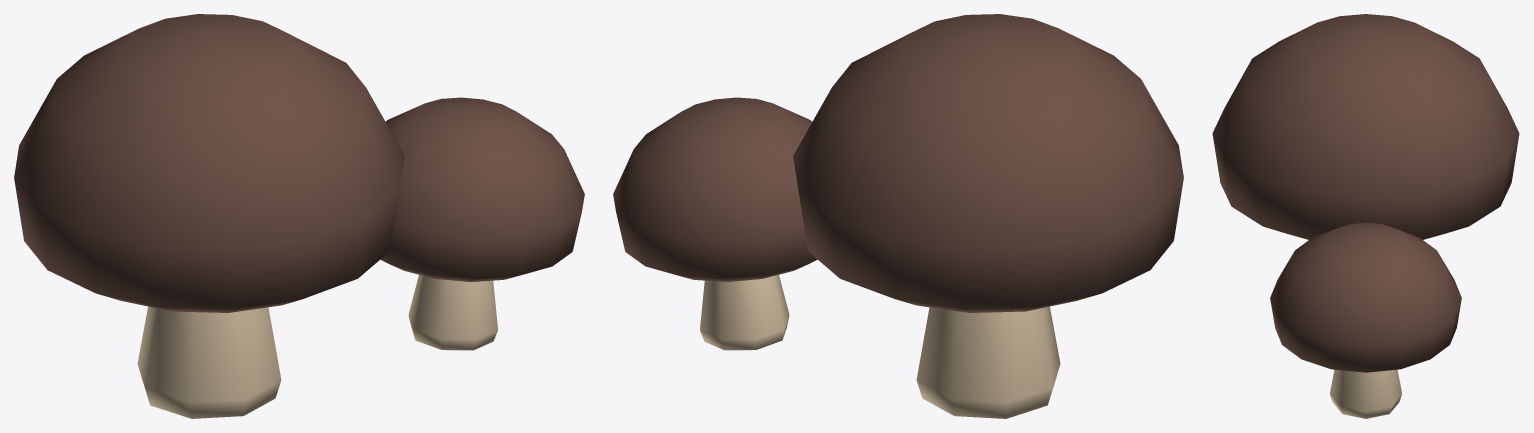
Rendered from Mushroom_01.1.fbx.
The picture shows the model from 3 angles, left to right: view 1: azimuth 30°, elevation 25°; view 2: azimuth 150°, elevation 25°; view 3: azimuth 270°, elevation 25°; orthographic projection. The views are drawn at different scales.
Parts seen in each view (by area): view 1: Mushroom_01.1; view 2: Mushroom_01.1; view 3: Mushroom_01.1.
Part boxes in pixels (x1=…): Mushroom_01.1: x1=14, y1=14, x2=584, y2=418; Mushroom_01.1: x1=613, y1=14, x2=1183, y2=418; Mushroom_01.1: x1=1212, y1=14, x2=1519, y2=418.
Size of the model in its own units: 107 by 68.82 by 70.51.
